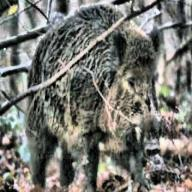boar: (18, 6, 169, 192)
